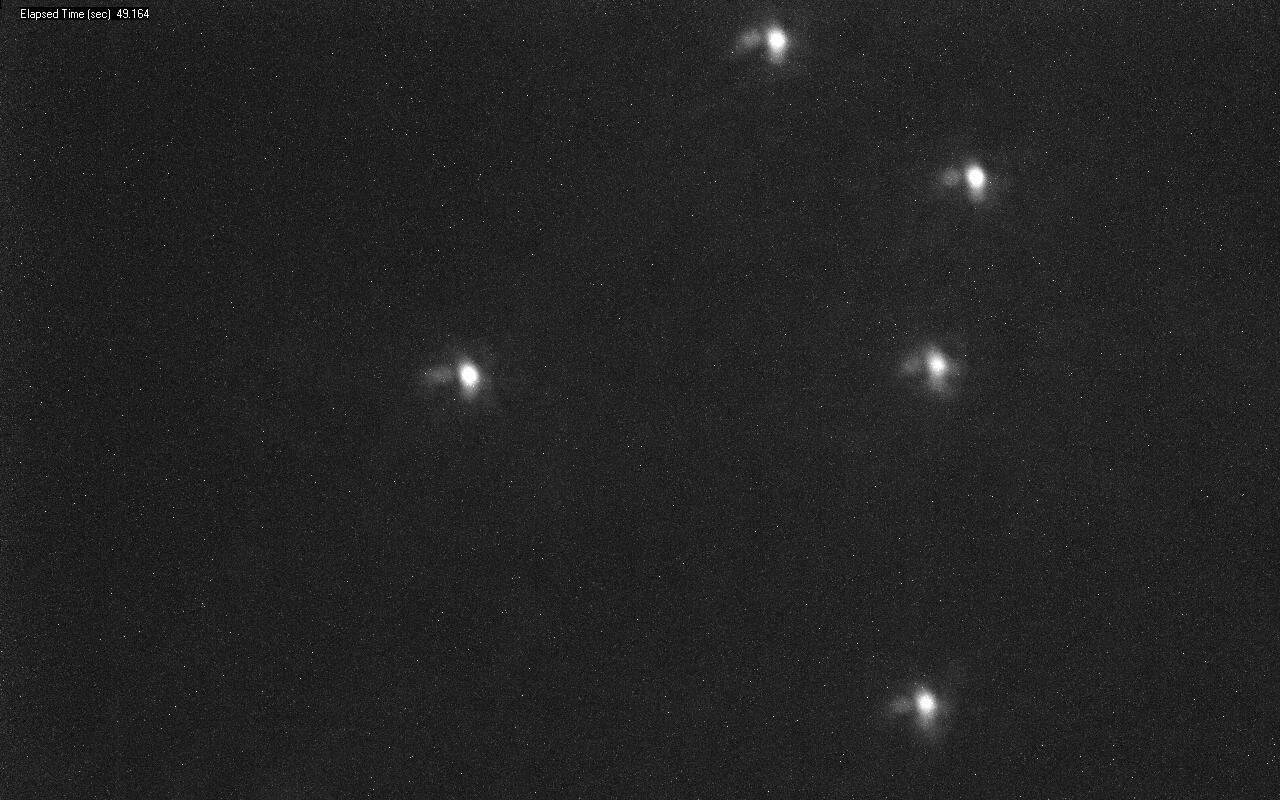Bead: (457, 359, 484, 396), (913, 687, 941, 721), (760, 28, 786, 57), (929, 354, 951, 380), (965, 166, 984, 191)
